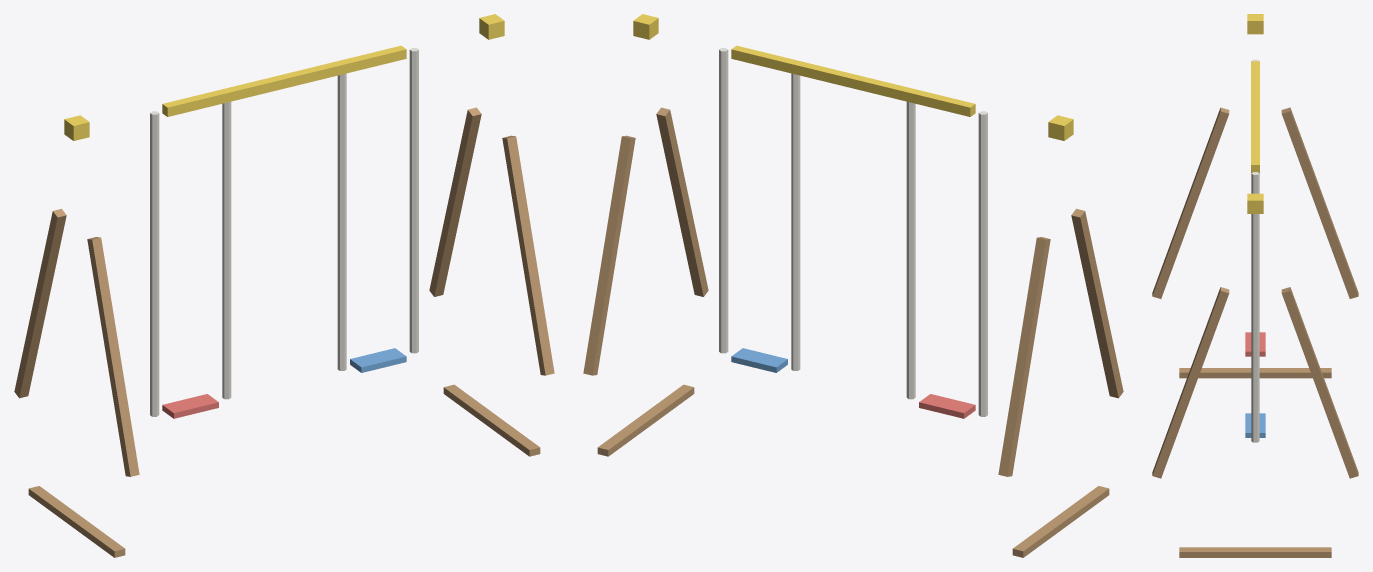
The model's file is th3_schaukel.glb.
3 views of the same model, side by side, from view 1: azimuth 30°, elevation 25°; view 2: azimuth 150°, elevation 25°; view 3: azimuth 270°, elevation 25° (orthographic). The views are drawn at different scales.
Parts seen in each view (by area): view 1: schaukel; view 2: schaukel; view 3: schaukel.
Part boxes in pixels (x1,y1,x2,y2): schaukel: (14,14,554,557); schaukel: (583,14,1123,557); schaukel: (1152,14,1358,557).
Size of the model in its own units: 2.39 by 2.14 by 1.12.
